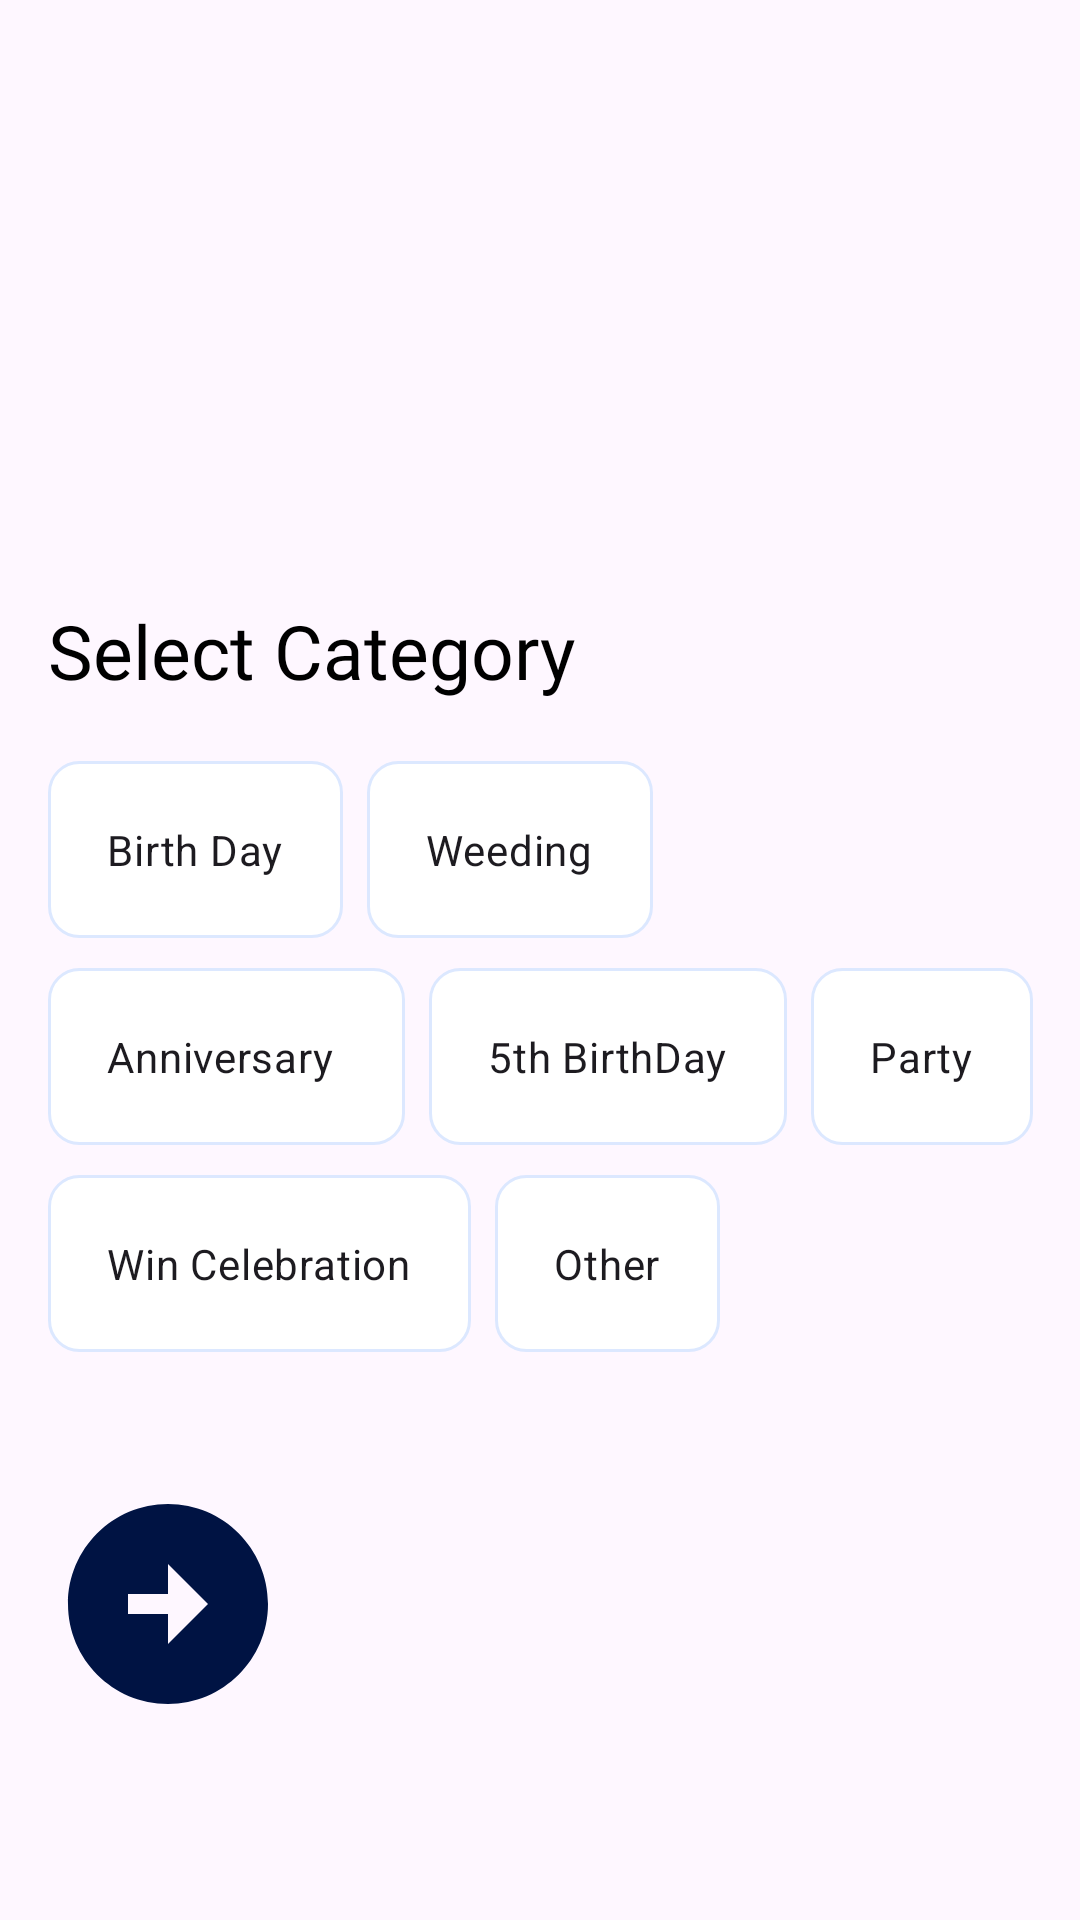

Where to tap for icons on this 1080 × 1920 app screen, as (x,y):
next: (167,1604)
